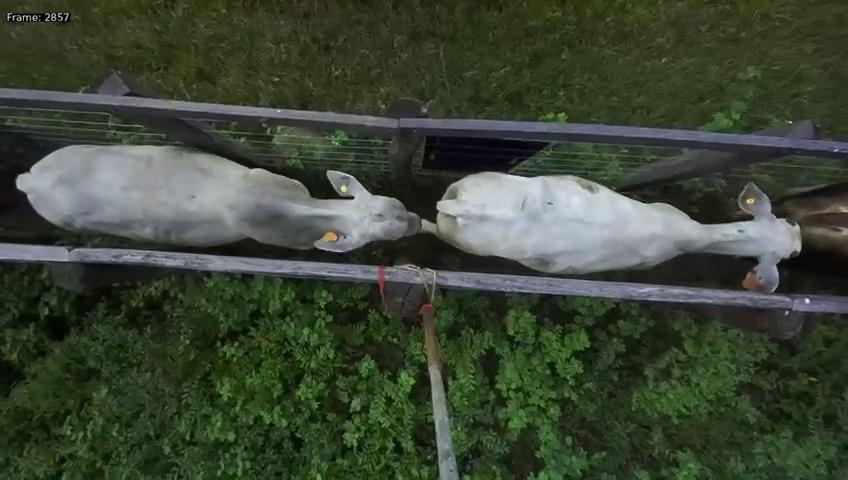cattle: (9, 136, 423, 256), (430, 167, 827, 291)
